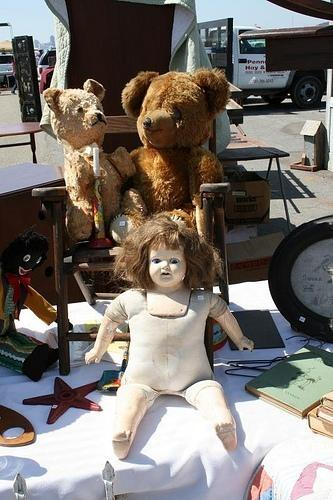car: (37, 47, 57, 82), (0, 55, 14, 82)
truck: (195, 1, 333, 108)
